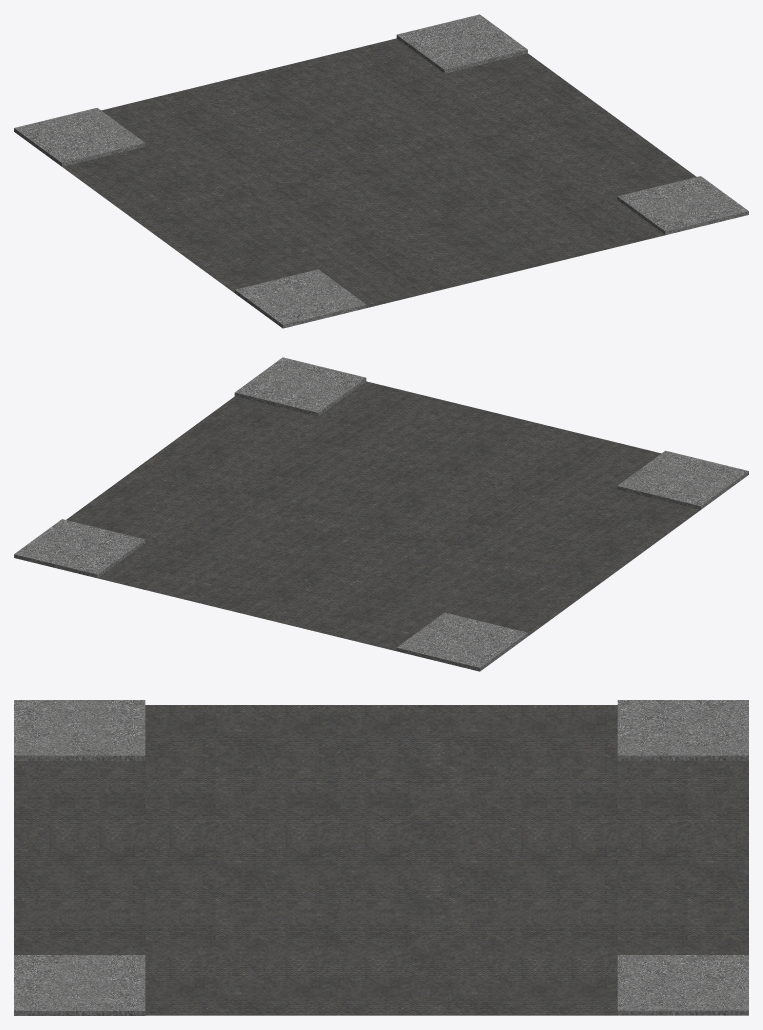
File: Road_Cross.obj
3 views of the same model, one above another, from view 1: azimuth 30°, elevation 25°; view 2: azimuth 150°, elevation 25°; view 3: azimuth 270°, elevation 25° (orthographic). The views are drawn at different scales.
Parts seen in each view (by area): view 1: Road_Cross; view 2: Road_Cross; view 3: Road_Cross.
Part boxes in pixels (<box>): Road_Cross: <box>14,14,748,328</box>; Road_Cross: <box>14,357,748,671</box>; Road_Cross: <box>14,700,748,1015</box>.
Size of the model in its own units: 15.58 by 0.1182 by 15.57.
